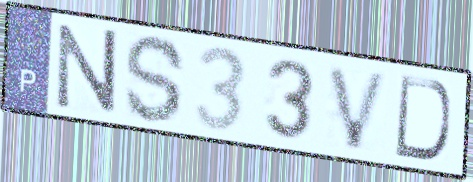3: (193, 44, 252, 134), (261, 57, 317, 143)
D: (391, 72, 453, 164)
N: (55, 22, 119, 117)
S: (122, 32, 188, 126)
V: (325, 62, 393, 154)
